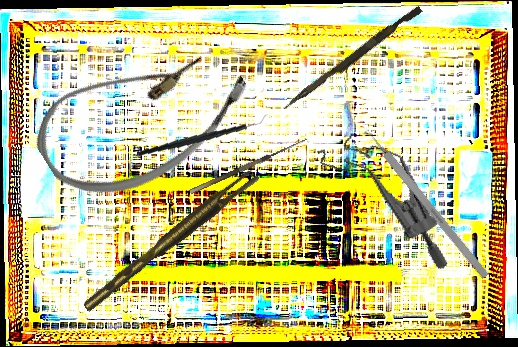Cannula: (20, 8, 264, 225)
Chopper: (136, 99, 268, 171)
Hook Surgical: (359, 121, 490, 280), (186, 131, 308, 195)
Pusher: (281, 1, 423, 117)
Speculum: (292, 122, 480, 273)
Tissue Forceps: (75, 166, 265, 313)
